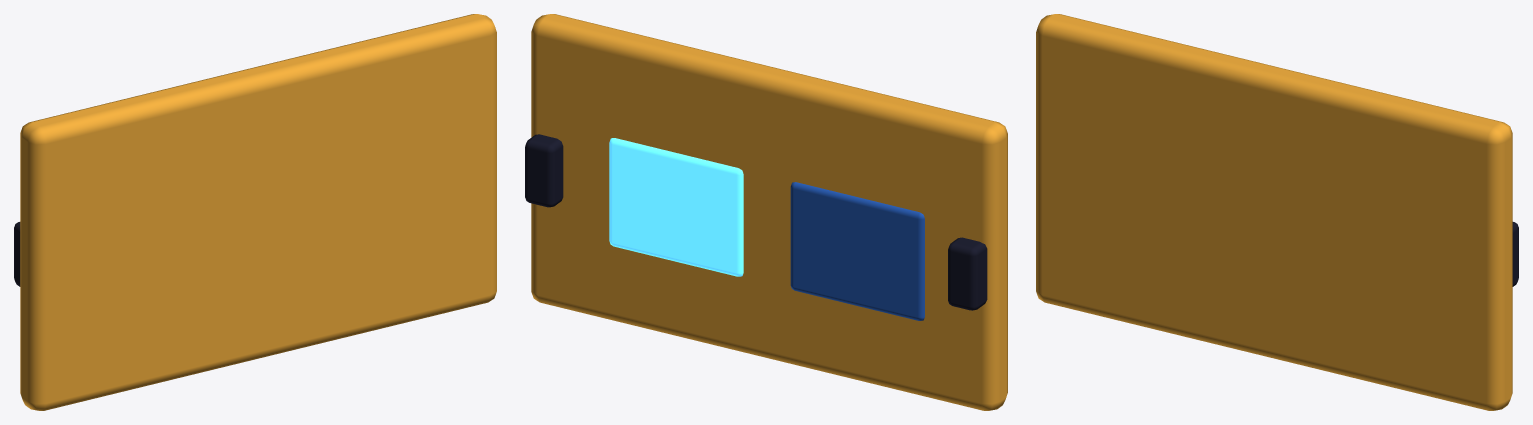
File: prop.props_workrooms.wall_hatch_orange.glb
3 views of the same model, side by side, from view 1: azimuth 30°, elevation 25°; view 2: azimuth 150°, elevation 25°; view 3: azimuth 330°, elevation 25° (orthographic).
Parts seen in each view (by area): view 1: prop.props_workrooms.wall_hatch_orange; view 2: prop.props_workrooms.wall_hatch_orange; view 3: prop.props_workrooms.wall_hatch_orange.
Boxes of the visible parts, bbox=[...] form: prop.props_workrooms.wall_hatch_orange: bbox=[14, 14, 496, 410]; prop.props_workrooms.wall_hatch_orange: bbox=[525, 14, 1007, 410]; prop.props_workrooms.wall_hatch_orange: bbox=[1036, 14, 1518, 410].
Size of the model in its own units: 0.62 by 0.36 by 0.07.
